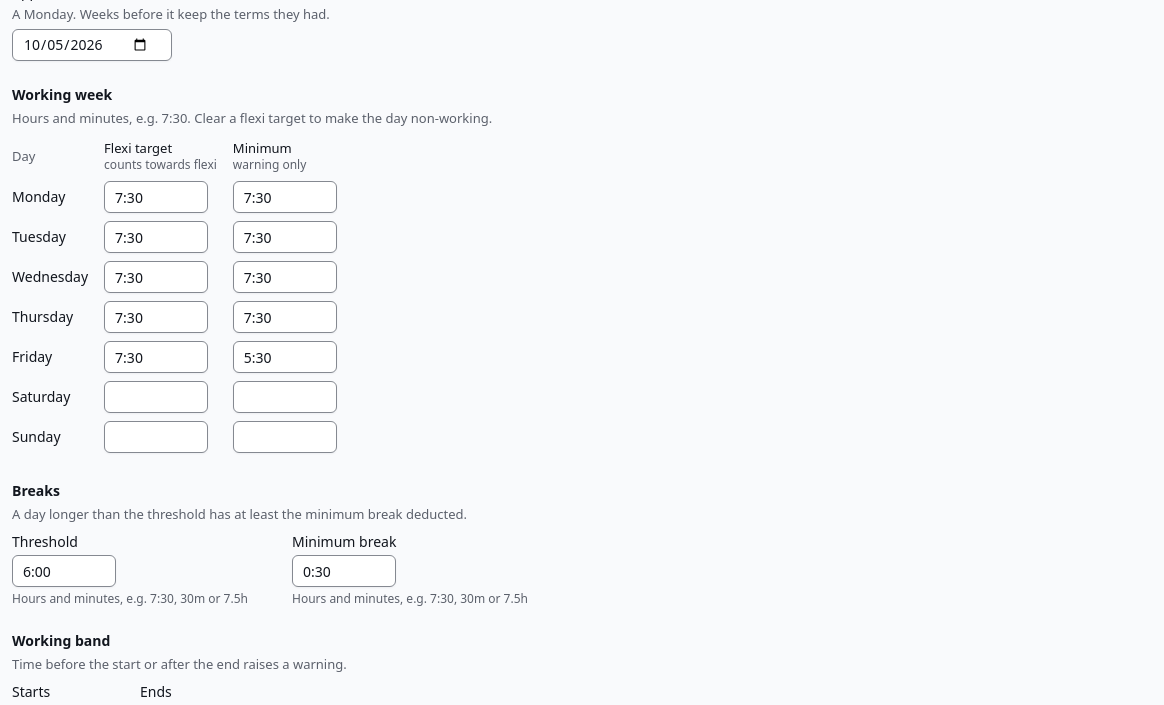
Test: WorkTermsForm › flags a date that is not a Monday
Type "2026-10-07" into the date field labelled "Applies from" at x=92, y=45, box [12,29,172,61]
(page scrolled)
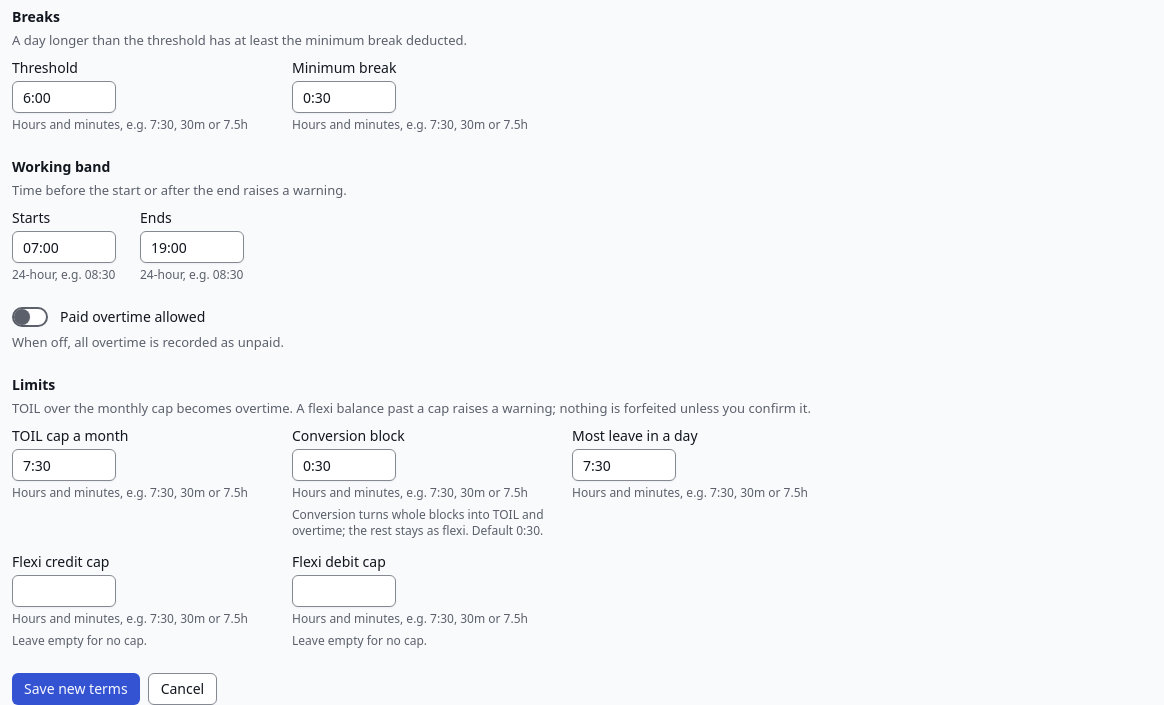
Click the button "Save new terms" at x=76, y=689, box [12,673,140,704]
(page scrolled)
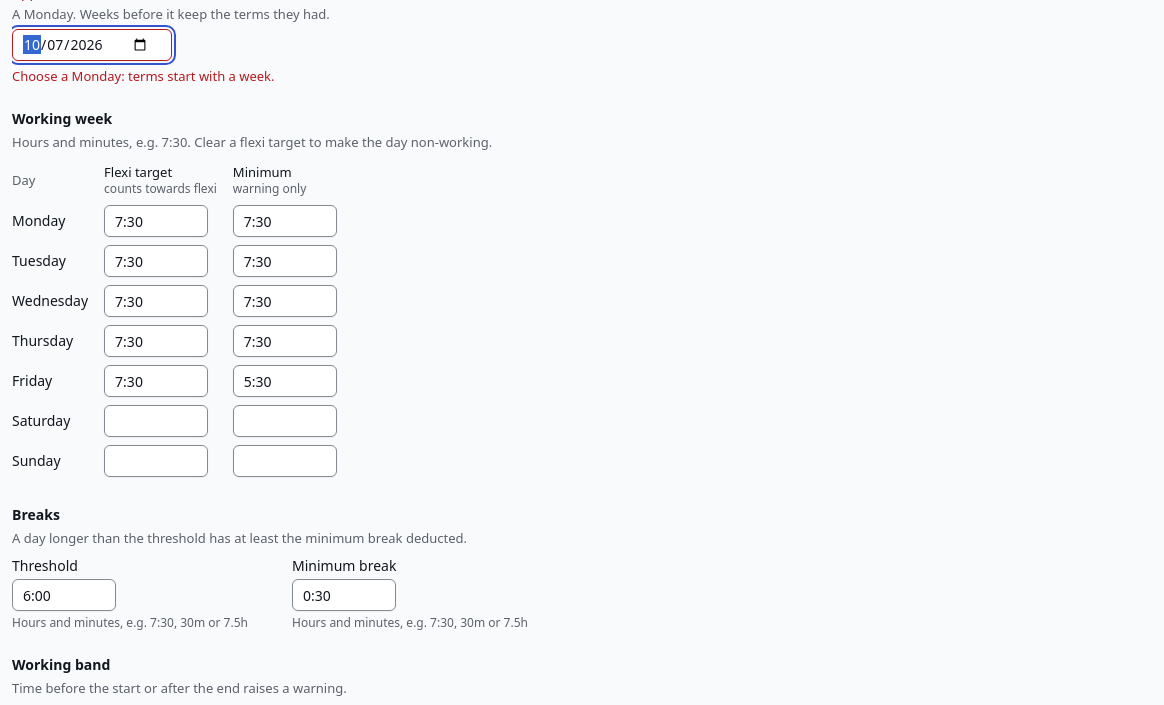
Now the text "Choose a Monday: terms start with a week." is shown, box [12,67,274,85]
